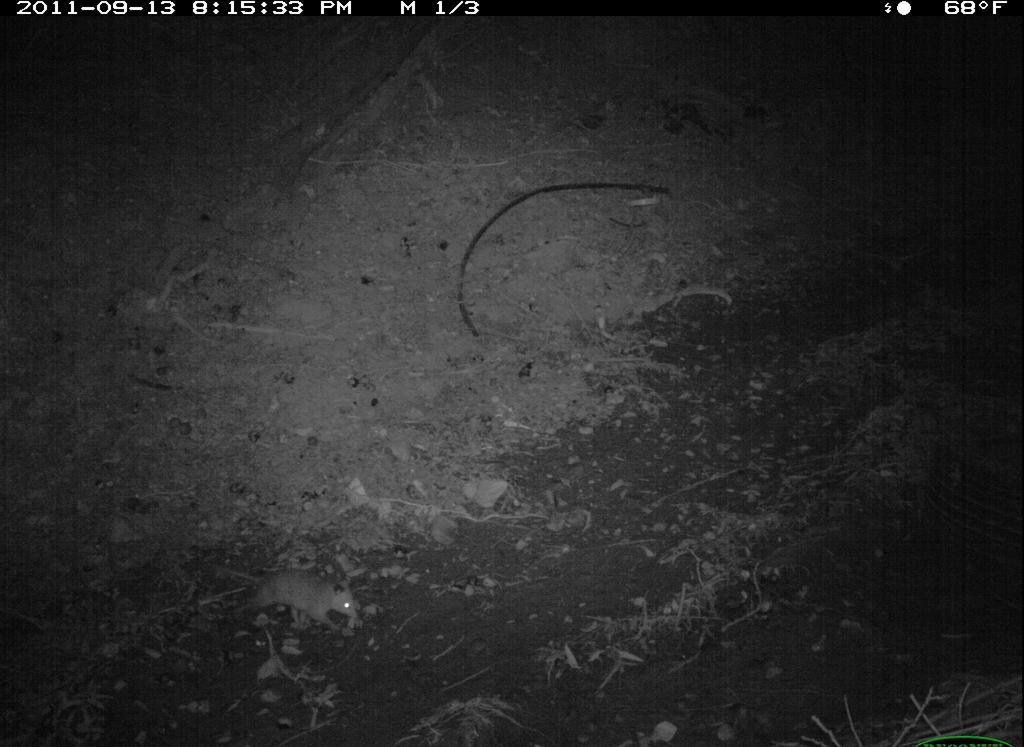opossum: (204, 553, 367, 646)
